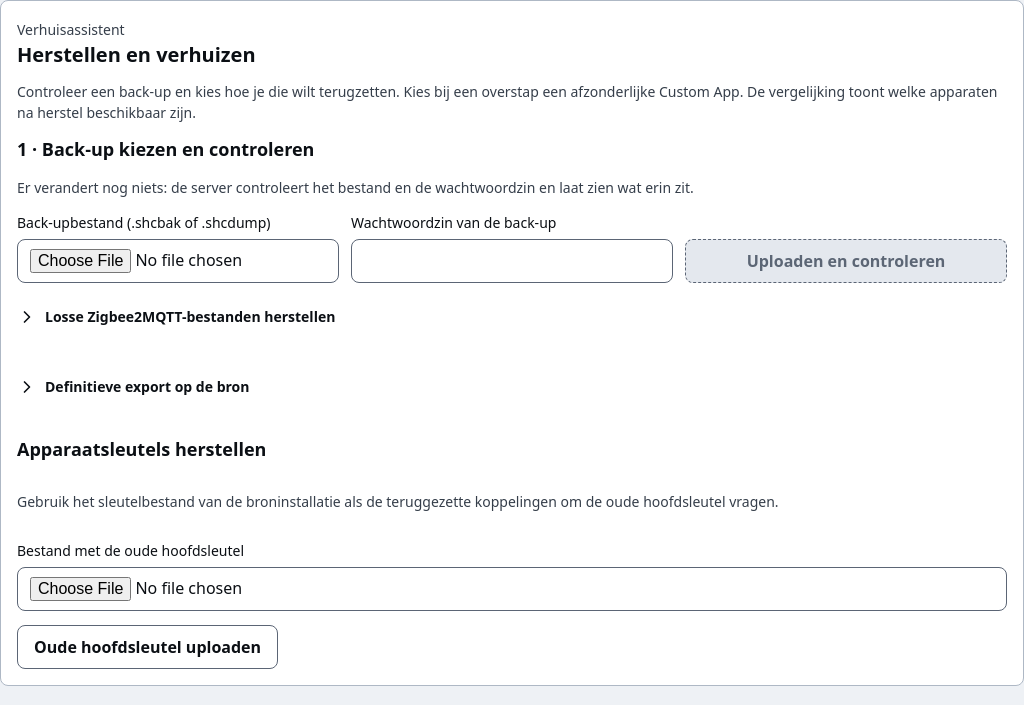
Test: houdt de tussenexport en de afgesloten bronregistratie herkenbaar bij het downloaden
Click the heading "Definitieve export op de bron".
click(147, 386)  # box [45,377,250,396]
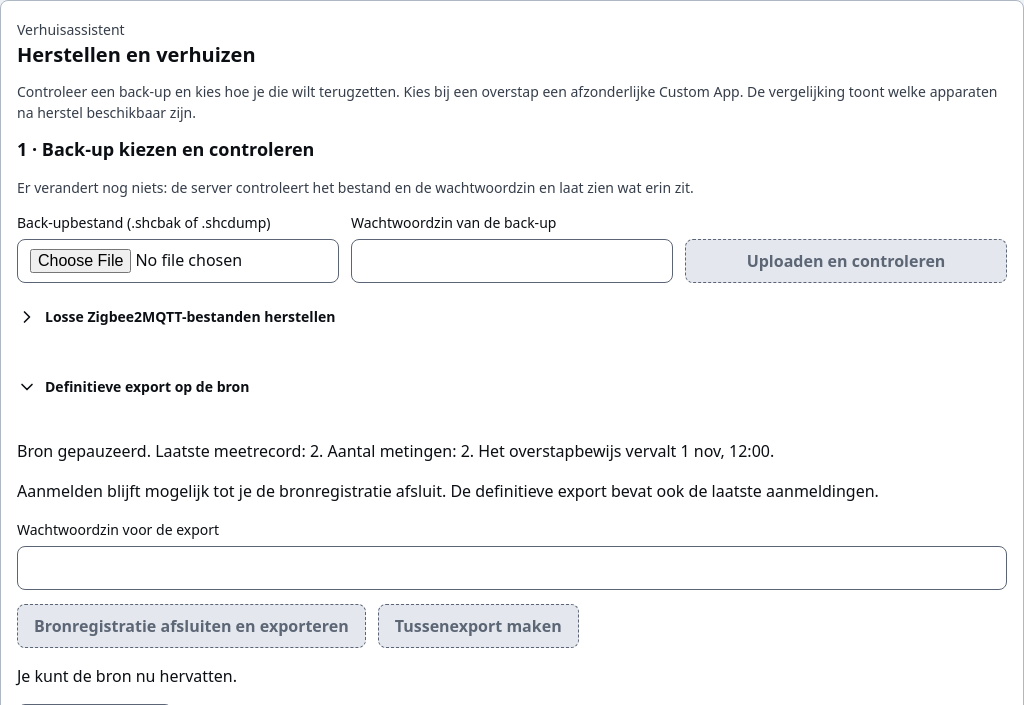
Type "synthetische proefzin" into the password field labelled "Wachtwoordzin voor de export".
click(512, 568); type("synthetische proefzin")  # box [17,546,1007,590]
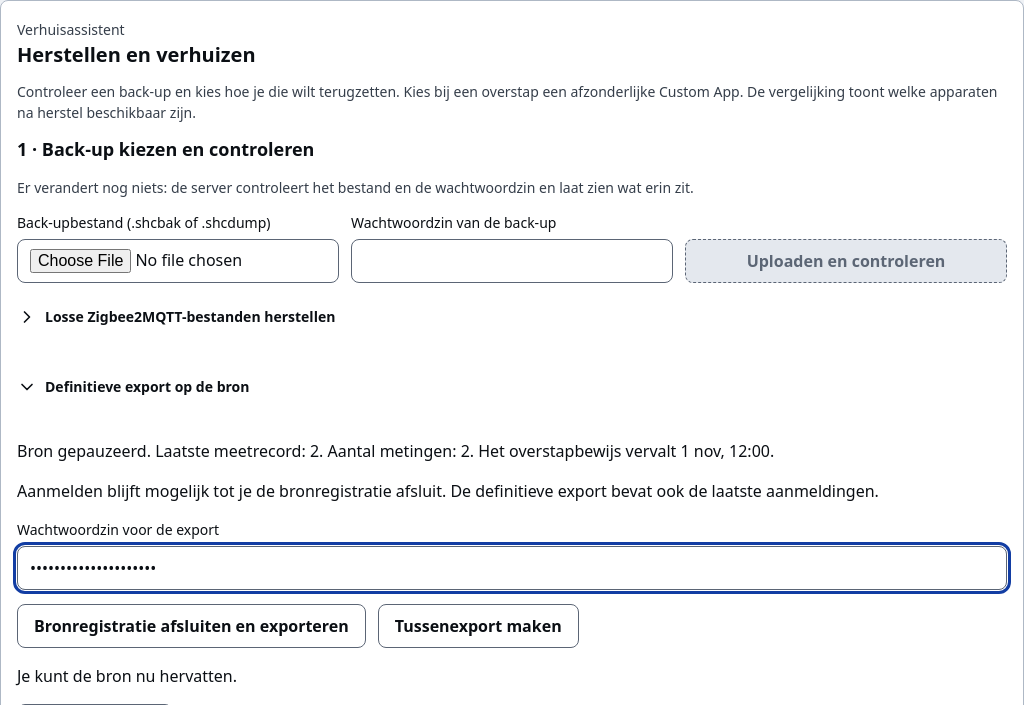
Click the button "Tussenexport maken".
click(478, 626)  # box [378,604,579,648]
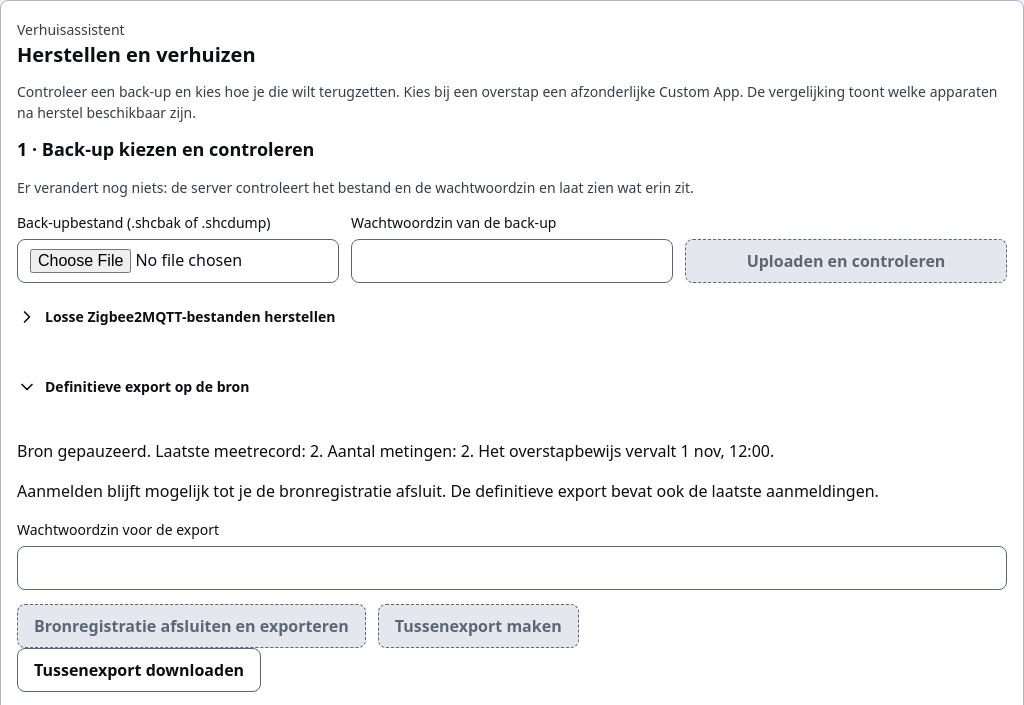
Type "synthetische proefzin" into the password field labelled "Wachtwoordzin voor de export".
click(512, 568); type("synthetische proefzin")  # box [17,546,1007,590]
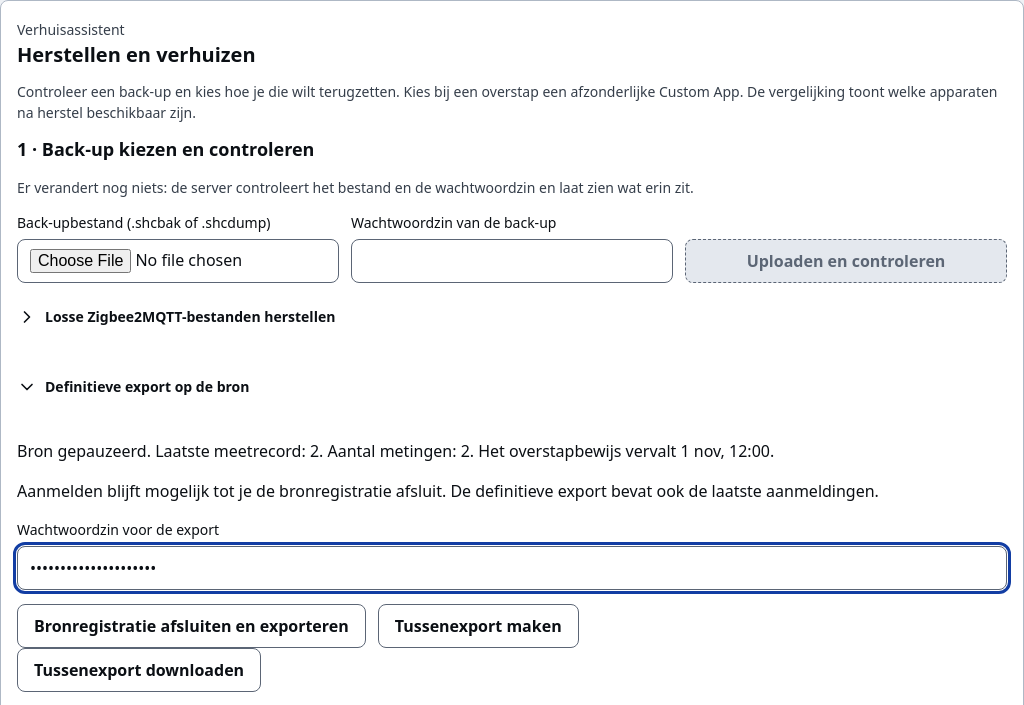
Click the button "Bronregistratie afsluiten en exporteren".
click(191, 626)  # box [17,604,366,648]
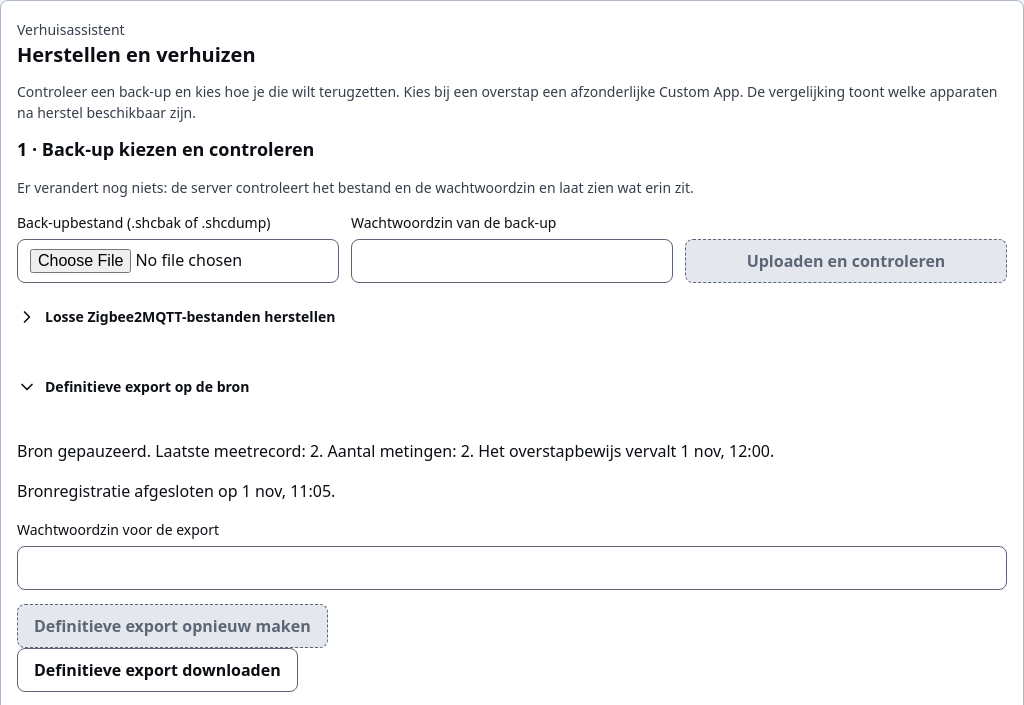
Expected: the text "Bronregistratie afgesloten op 1 nov, 11:05." is shown, [17,480,335,502]
